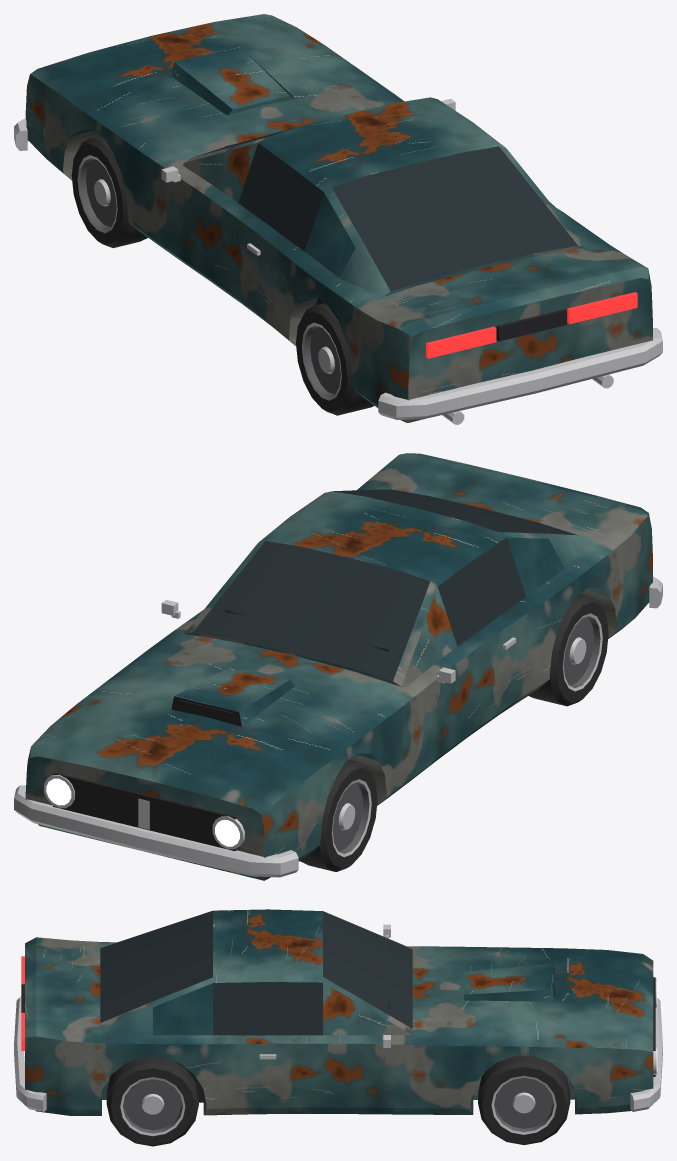
The model's file is muscle-car.glb.
3 views of the same model, one above another, from view 1: azimuth 30°, elevation 25°; view 2: azimuth 150°, elevation 25°; view 3: azimuth 270°, elevation 25° (orthographic). The views are drawn at different scales.
Parts seen in each view (by area): view 1: Body, Hood, RearWindow, Door_L, Trunk, Bumper_R, Wheel_RL.001, Window_L, Wheel_FL.001; view 2: Body, Hood, Windshield, Trunk, Door_L, Bumper_F, Window_L, Wheel_RL.001, Wheel_FL.001, RearWindow; view 3: Body, Hood, Door_R, RearWindow, Wheel_FR.001, Wheel_RR.001, Trunk, Windshield, Window_R, Bumper_R, Bumper_F.
Part boxes in pixels (<box>): Body: <box>25,56,652,424</box>; Hood: <box>31,14,404,168</box>; RearWindow: <box>332,146,577,291</box>; Door_L: <box>161,166,287,335</box>; Trunk: <box>356,244,647,328</box>; Bumper_R: <box>378,327,662,419</box>; Wheel_RL.001: <box>296,303,374,415</box>; Window_L: <box>238,143,323,251</box>; Wheel_FL.001: <box>71,135,147,248</box>; Body: <box>25,453,652,880</box>; Hood: <box>31,631,418,804</box>; Windshield: <box>193,541,430,680</box>; Trunk: <box>357,453,647,552</box>; Door_L: <box>419,606,542,769</box>; Bumper_F: <box>14,785,298,877</box>; Window_L: <box>437,537,526,646</box>; Wheel_RL.001: <box>528,594,608,706</box>; Wheel_FL.001: <box>300,759,377,871</box>; RearWindow: <box>333,489,577,535</box>; Body: <box>21,909,657,1115</box>; Hood: <box>409,946,642,1049</box>; Door_R: <box>217,1035,408,1108</box>; RearWindow: <box>100,910,212,1022</box>; Wheel_FR.001: <box>478,1056,570,1144</box>; Wheel_RR.001: <box>106,1057,198,1146</box>; Trunk: <box>36,937,101,1043</box>; Windshield: <box>323,911,412,1028</box>; Window_R: <box>213,982,322,1035</box>; Bumper_R: <box>14,996,46,1111</box>; Bumper_F: <box>630,998,662,1111</box>.
Size of the model in its own units: 2.13 by 1.35 by 5.07.
8 materials, 1 textured.
